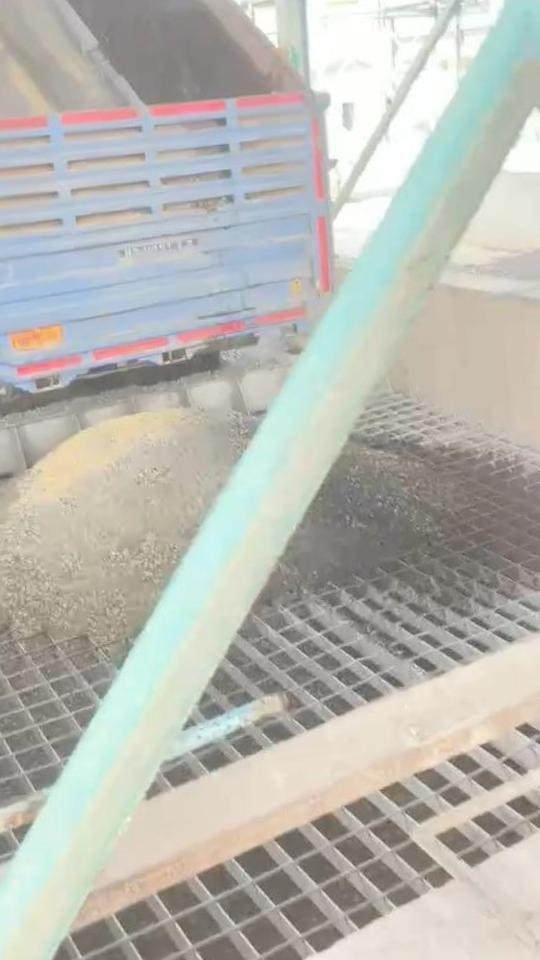gravel: (0, 409, 253, 643), (266, 441, 460, 596)
